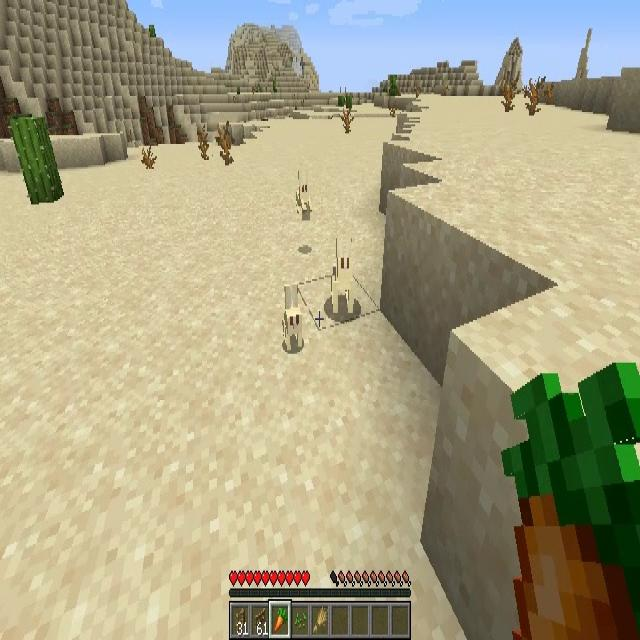rabbit: (330, 241, 354, 313), (280, 285, 302, 352), (294, 166, 310, 219)
